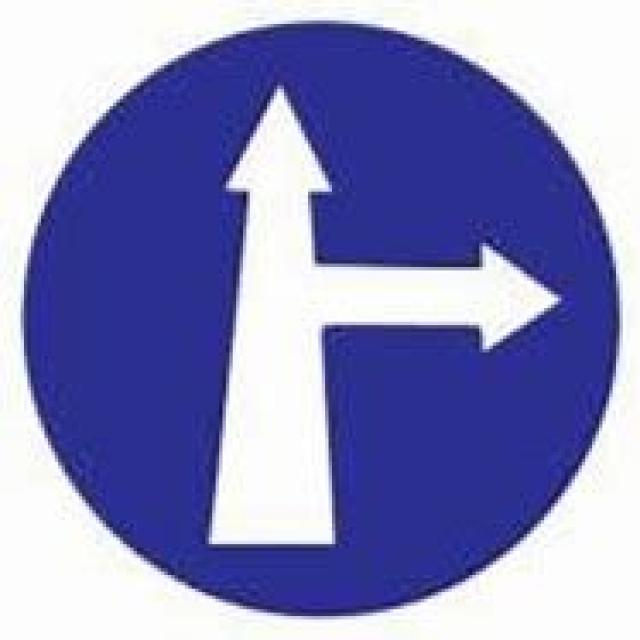compulsory_ahead_or_left: (17, 17, 620, 616)
